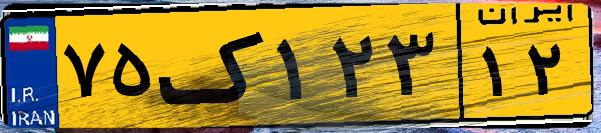1: (270, 28, 330, 110), (475, 38, 525, 113)
2: (330, 28, 385, 110), (525, 38, 570, 115)
3: (385, 28, 445, 110)
5: (110, 28, 158, 98)
7: (57, 26, 110, 100)
ک: (158, 12, 270, 120)
